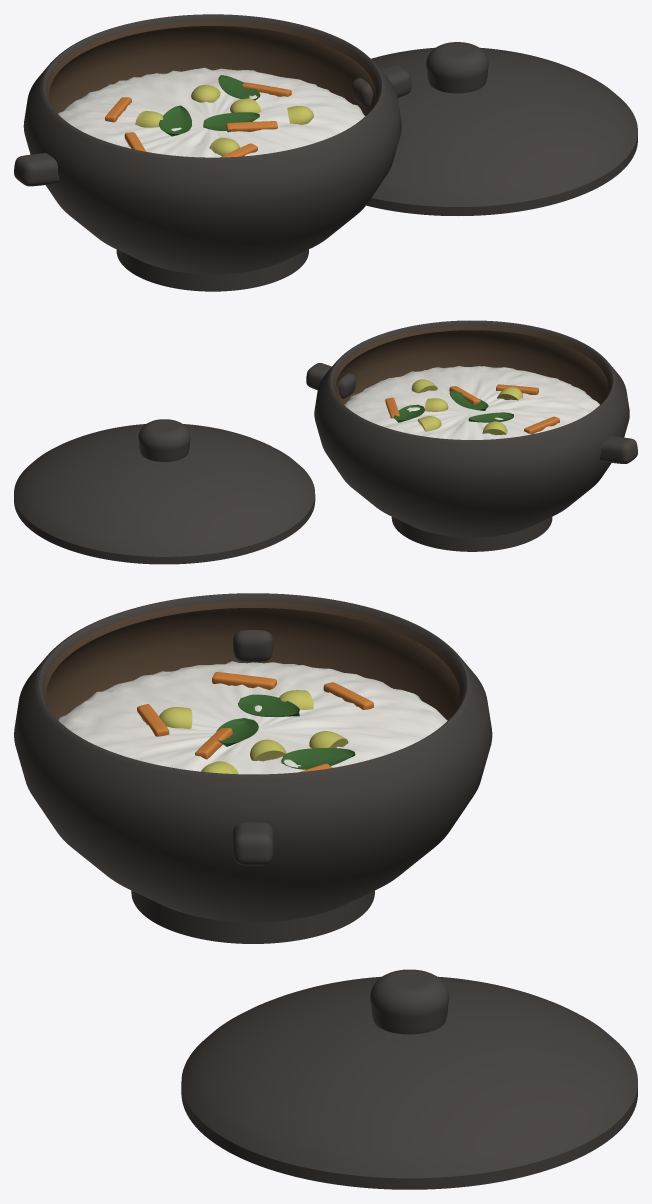
File: donabe.glb
3 views of the same model, one above another, from view 1: azimuth 30°, elevation 25°; view 2: azimuth 150°, elevation 25°; view 3: azimuth 270°, elevation 25° (orthographic). The views are drawn at different scales.
Parts seen in each view (by area): view 1: 土鍋, 蓋, 炊き込みご飯, つまみ, 耳, 耳.001, 三つ葉1, 三つ葉0, 三つ葉2, 人参3, 銀杏.001, 銀杏.002; view 2: 土鍋, 蓋, 炊き込みご飯, つまみ, 耳, 耳.001, 三つ葉1; view 3: 土鍋, 蓋, 炊き込みご飯, つまみ, 耳.001, 耳, 三つ葉2, 三つ葉1.
Part boxes in pixels (x1=…): 土鍋: x1=23, y1=14, x2=401, y2=291; 蓋: x1=366, y1=47, x2=637, y2=215; 炊き込みご飯: x1=58, y1=67, x2=365, y2=157; つまみ: x1=426, y1=42, x2=488, y2=93; 耳: x1=14, y1=153, x2=59, y2=186; 耳.001: x1=352, y1=65, x2=411, y2=108; 三つ葉1: x1=159, y1=105, x2=191, y2=136; 三つ葉0: x1=203, y1=112, x2=259, y2=130; 三つ葉2: x1=218, y1=75, x2=260, y2=100; 人参3: x1=226, y1=121, x2=277, y2=132; 銀杏.001: x1=191, y1=84, x2=220, y2=102; 銀杏.002: x1=287, y1=106, x2=313, y2=124; 土鍋: x1=314, y1=320, x2=629, y2=551; 蓋: x1=14, y1=424, x2=315, y2=564; 炊き込みご飯: x1=344, y1=366, x2=599, y2=439; つまみ: x1=138, y1=419, x2=190, y2=461; 耳: x1=600, y1=436, x2=637, y2=463; 耳.001: x1=306, y1=363, x2=355, y2=398; 三つ葉1: x1=468, y1=412, x2=513, y2=422; 土鍋: x1=14, y1=593, x2=492, y2=943; 蓋: x1=181, y1=976, x2=637, y2=1189; 炊き込みご飯: x1=58, y1=661, x2=447, y2=774; つまみ: x1=370, y1=969, x2=449, y2=1034; 耳.001: x1=232, y1=822, x2=273, y2=865; 耳: x1=233, y1=630, x2=273, y2=661; 三つ葉2: x1=281, y1=748, x2=355, y2=769; 三つ葉1: x1=238, y1=694, x2=299, y2=716.
Size of the model in its own units: 0.4415 by 0.1117 by 0.287.
